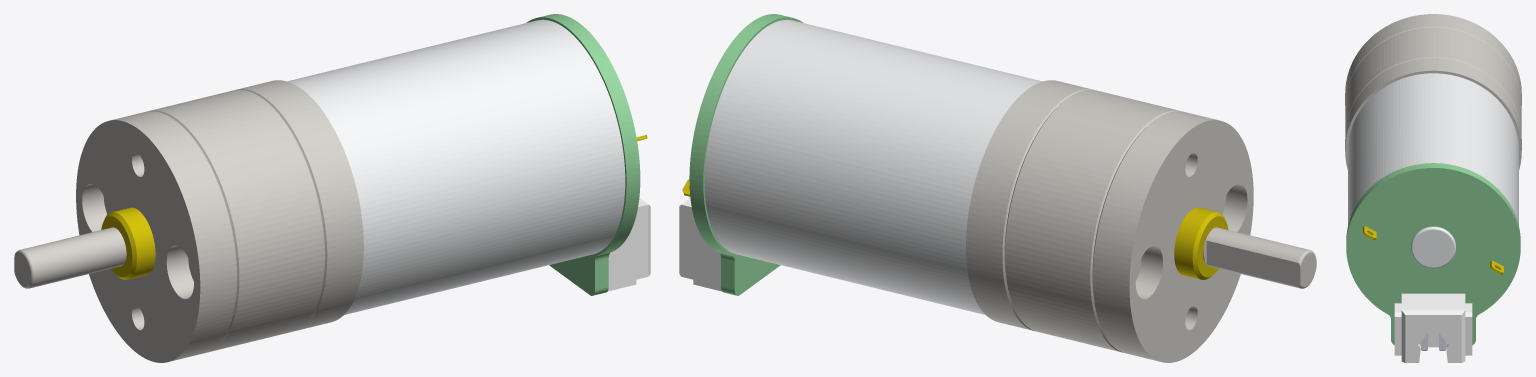
File: motor_ga25.glb
3 renders of one model, left to right at view 1: azimuth 30°, elevation 25°; view 2: azimuth 150°, elevation 25°; view 3: azimuth 270°, elevation 25°, orthographic. The views are drawn at different scales.
Parts seen in each view (by area): view 1: Node1, Node4, Node3, Node2, Node5; view 2: Node1, Node4, Node3, Node5, Node2; view 3: Node3, Node1, Node4, Node2, Node5, Node6.
Boxes of the visible parts, bbox=[...] form: Node1: bbox=[287, 19, 625, 314]; Node4: bbox=[14, 80, 363, 362]; Node3: bbox=[526, 14, 640, 295]; Node2: bbox=[607, 198, 650, 291]; Node5: bbox=[101, 135, 647, 279]; Node1: bbox=[704, 19, 1042, 314]; Node4: bbox=[966, 80, 1316, 362]; Node3: bbox=[689, 14, 803, 295]; Node5: bbox=[682, 179, 1228, 279]; Node2: bbox=[679, 198, 721, 291]; Node3: bbox=[1346, 163, 1520, 345]; Node1: bbox=[1348, 73, 1518, 268]; Node4: bbox=[1345, 14, 1521, 169]; Node2: bbox=[1394, 293, 1472, 362]; Node5: bbox=[1363, 225, 1503, 274]; Node6: bbox=[1421, 333, 1445, 350].
Bounding box in the file's own units: 70.7 × 28.01 × 25.
